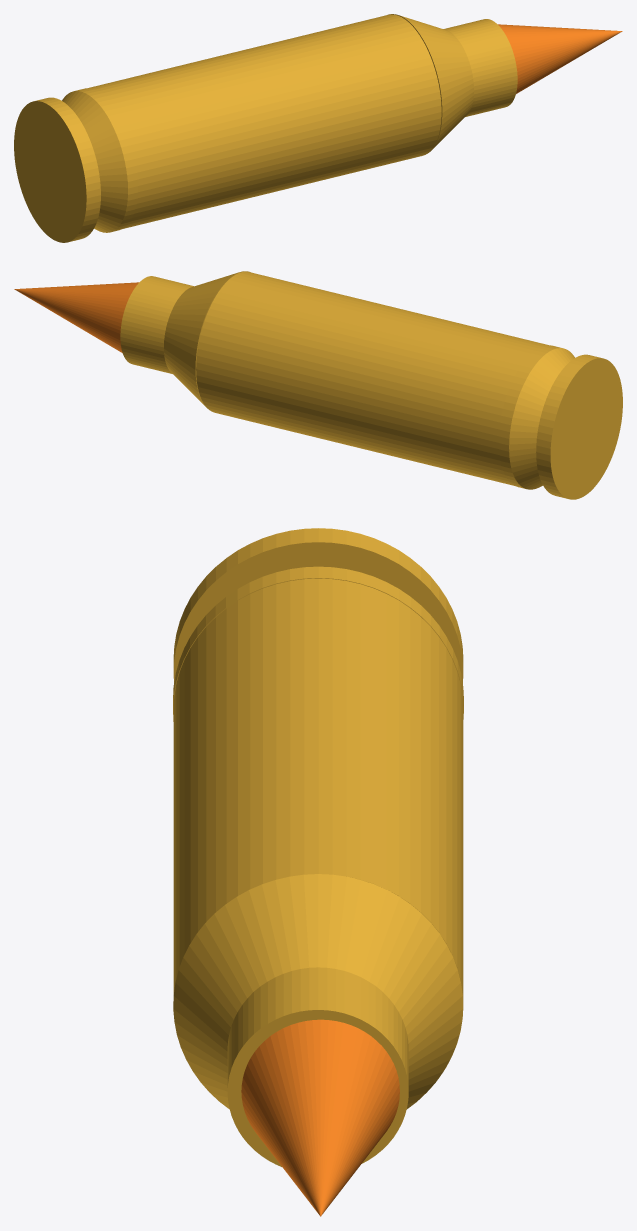
The model's file is 5.56x45 NATO.fbx.
3 renders of one model, top to bottom at view 1: azimuth 30°, elevation 25°; view 2: azimuth 150°, elevation 25°; view 3: azimuth 270°, elevation 25°, orthographic. The views are drawn at different scales.
Visible parts, largest first — view 1: node_id30 (×2); view 2: node_id30 (×2); view 3: node_id30 (×2).
Part boxes in pixels (x1,y1,x2,y2): node_id30 (×2): (14,14,622,242); node_id30 (×2): (14,271,622,499); node_id30 (×2): (173,528,463,1216).
Size of the model in its own units: 0.512 by 0.1128 by 0.1128.
